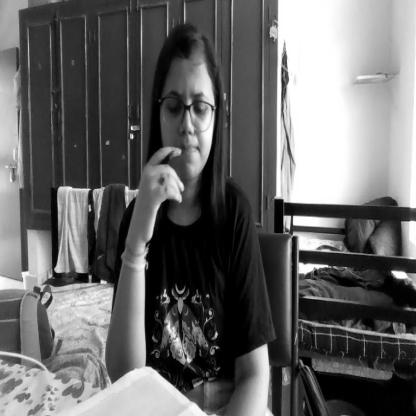Normal: (154, 30, 220, 190)
